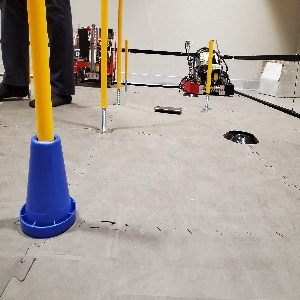Blue_1: (17, 134, 76, 239)
